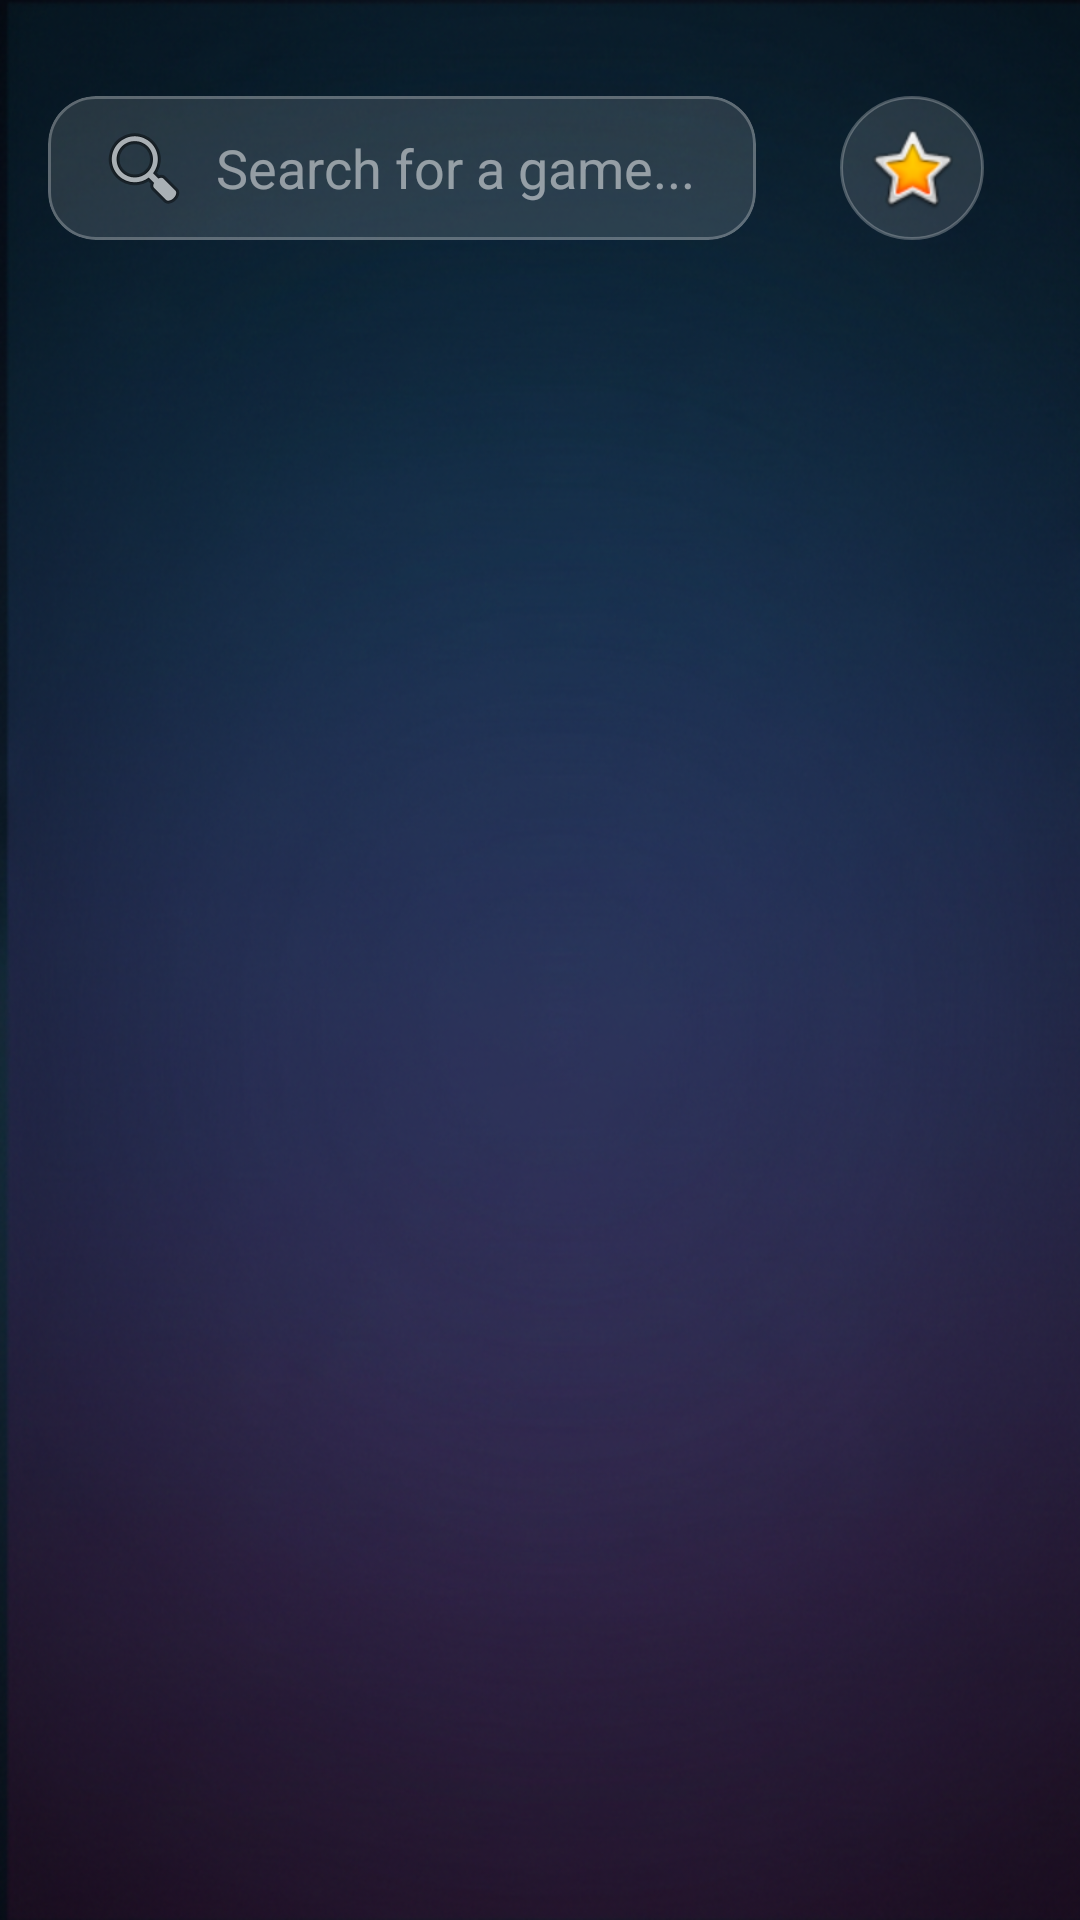

Named icons in this screenshot (1080w x 1920h) and their bounding boxes, [x1=x1, y1=y1, x2=x2, y2=y2]:
Favorites Button: [x1=840, y1=96, x2=984, y2=240]
